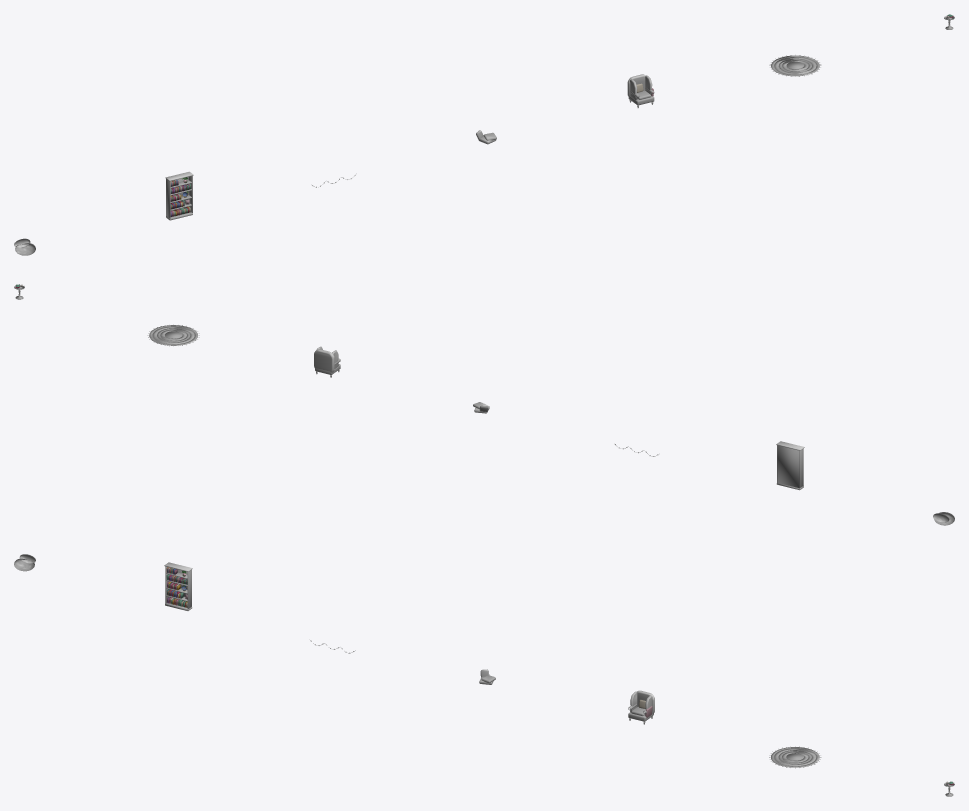
Rendered from bld_home_nook.glb.
3 renders of one model, top to bottom at view 1: azimuth 30°, elevation 25°; view 2: azimuth 150°, elevation 25°; view 3: azimuth 330°, elevation 25°, orthographic.
Parts seen in each view (by area): view 1: INST_bld_home_nook_bookshelf_s_wood, INST_bld_home_nook_bookshelf_s_fixed, INST_bld_home_nook_reading_chair_s_fabric, INST_bld_home_nook_rug_round_s_rug; view 2: INST_bld_home_nook_bookshelf_s_wood, INST_bld_home_nook_reading_chair_s_fabric, INST_bld_home_nook_rug_round_s_rug; view 3: INST_bld_home_nook_bookshelf_s_wood, INST_bld_home_nook_bookshelf_s_fixed, INST_bld_home_nook_rug_round_s_rug, INST_bld_home_nook_reading_chair_s_fabric.
Part boxes in pixels (left/top/right/bottom): INST_bld_home_nook_bookshelf_s_wood: left=165, top=171, right=193, bottom=220; INST_bld_home_nook_bookshelf_s_fixed: left=170, top=177, right=190, bottom=216; INST_bld_home_nook_reading_chair_s_fabric: left=627, top=74, right=654, bottom=105; INST_bld_home_nook_rug_round_s_rug: left=774, top=57, right=816, bottom=74; INST_bld_home_nook_bookshelf_s_wood: left=776, top=441, right=804, bottom=490; INST_bld_home_nook_reading_chair_s_fabric: left=314, top=346, right=340, bottom=374; INST_bld_home_nook_rug_round_s_rug: left=152, top=326, right=194, bottom=344; INST_bld_home_nook_bookshelf_s_wood: left=164, top=562, right=192, bottom=610; INST_bld_home_nook_bookshelf_s_fixed: left=166, top=567, right=187, bottom=607; INST_bld_home_nook_rug_round_s_rug: left=774, top=748, right=816, bottom=766; INST_bld_home_nook_reading_chair_s_fabric: left=628, top=690, right=654, bottom=721.
Bounding box in the file's own units: 48.73 × 2.24 × 2.36.
